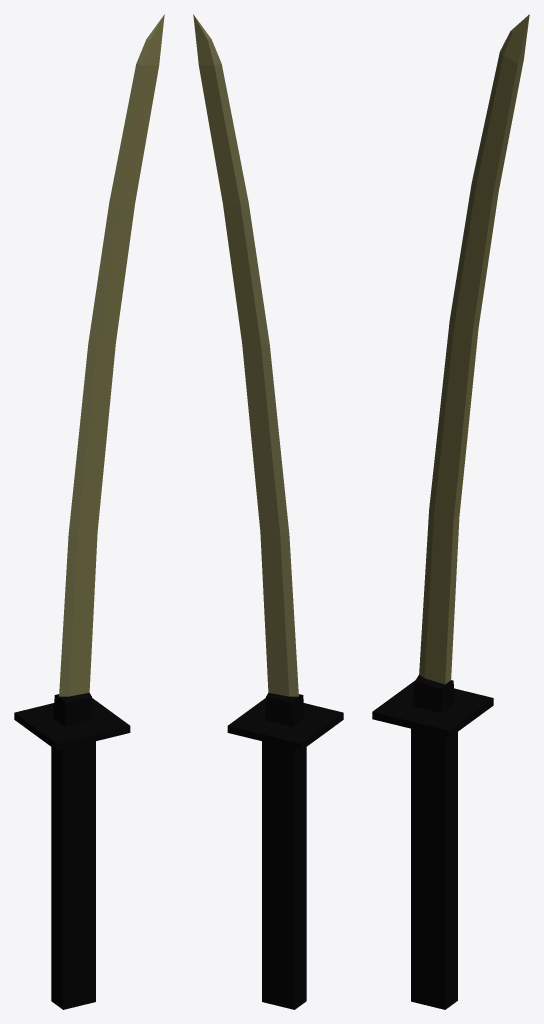
File: sword_1.fbx
3 renders of one model, left to right at view 1: azimuth 30°, elevation 25°; view 2: azimuth 150°, elevation 25°; view 3: azimuth 330°, elevation 25°, orthographic. The views are drawn at different scales.
Visible parts, largest first — view 1: Sword, Cube; view 2: Sword, Cube; view 3: Sword, Cube.
Boxes of the visible parts, box(x1,y1,x2,y2) form: Sword: box(51, 14, 164, 1009); Cube: box(14, 698, 130, 750); Sword: box(193, 14, 306, 1009); Cube: box(227, 698, 343, 750); Sword: box(411, 14, 529, 1009); Cube: box(372, 680, 493, 737).
Bounding box in the file's own units: 18.43 × 132 × 10.5.
